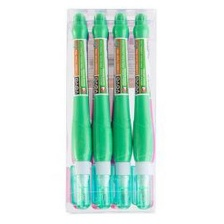correction_fluid: (108, 11, 135, 209), (89, 11, 114, 211), (69, 10, 93, 211), (130, 11, 154, 212)
